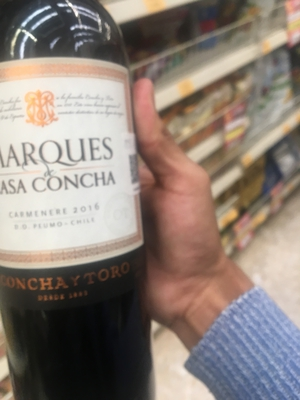marques de casa concha carmenere: (1, 20, 153, 400)
